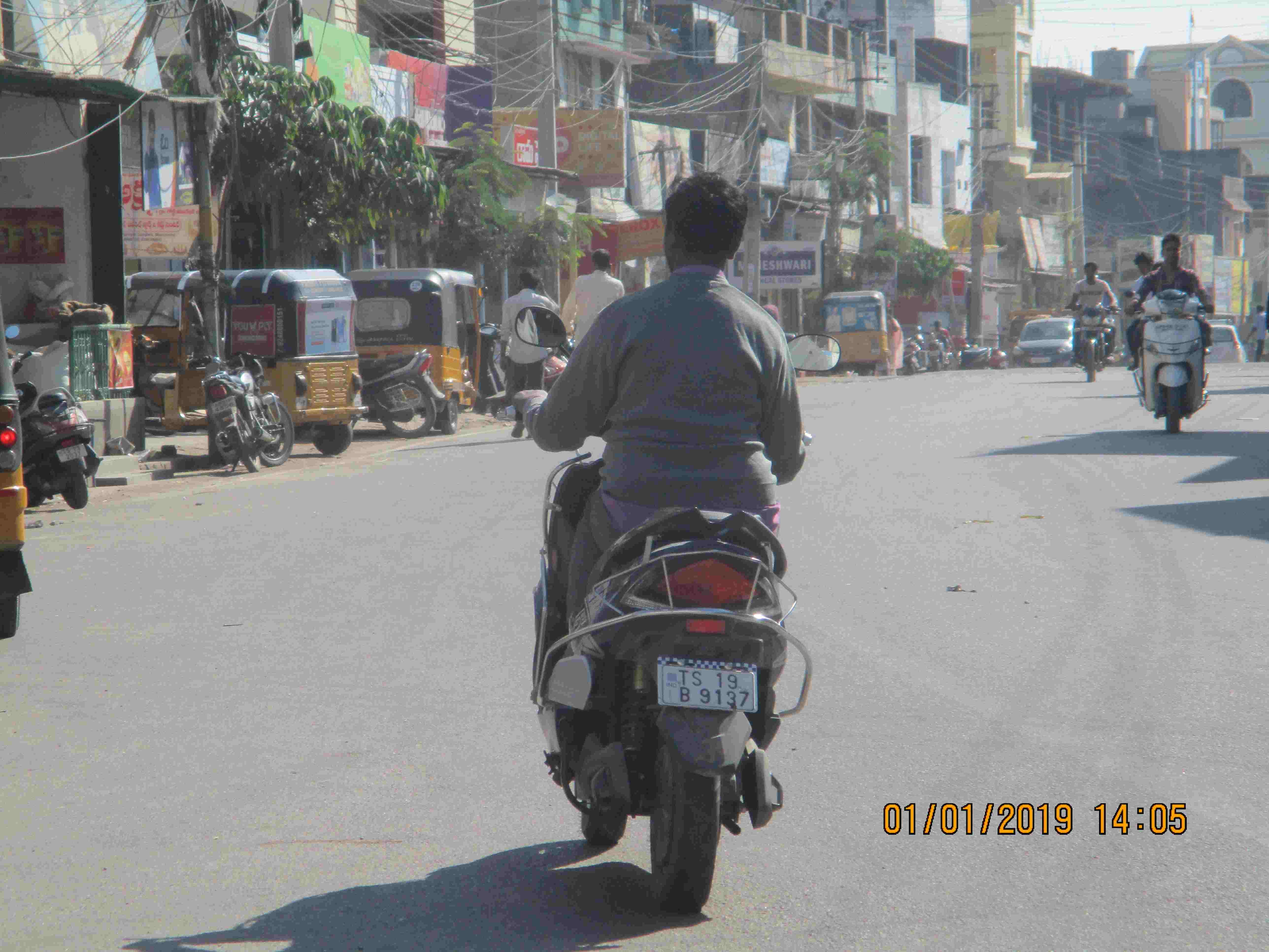plate: (653, 650, 762, 716), (52, 442, 94, 466)
